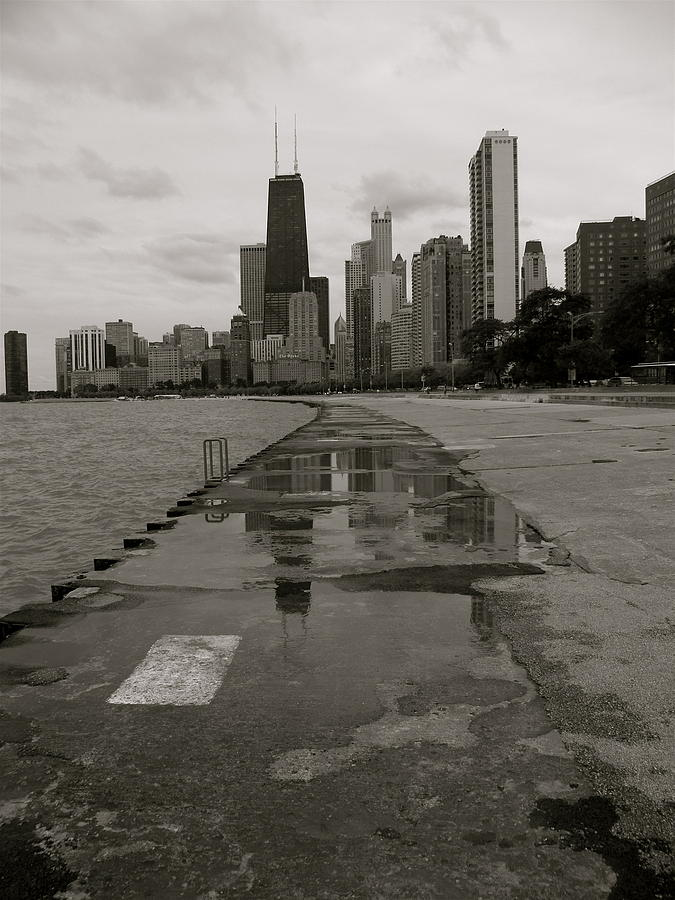building: (463, 123, 535, 335), (262, 107, 309, 297)
sky: (5, 2, 675, 125), (1, 120, 255, 323)
water: (110, 501, 314, 585), (251, 432, 458, 489), (330, 553, 504, 606)
